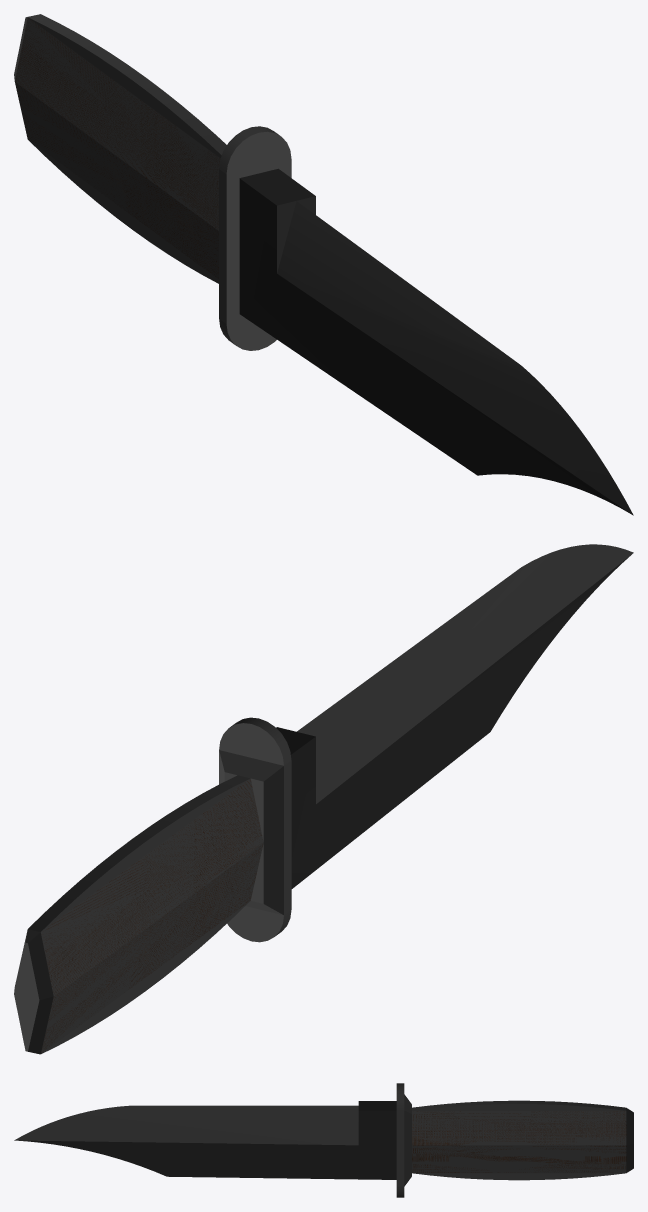
Rendered from model_scale.obj.
3 renders of one model, top to bottom at view 1: azimuth 30°, elevation 25°; view 2: azimuth 150°, elevation 25°; view 3: azimuth 270°, elevation 25°, orthographic. The views are drawn at different scales.
Parts seen in each view (by area): view 1: mesh1_mesh1-geometry, mesh2_mesh2-geometry; view 2: mesh2_mesh2-geometry, mesh1_mesh1-geometry; view 3: mesh1_mesh1-geometry, mesh2_mesh2-geometry.
Part boxes in pixels (box(x1,y1,x2,y2)): mesh1_mesh1-geometry: box(239, 168, 633, 515); mesh2_mesh2-geometry: box(14, 14, 291, 350); mesh2_mesh2-geometry: box(14, 717, 291, 1054); mesh1_mesh1-geometry: box(276, 544, 633, 888); mesh1_mesh1-geometry: box(14, 1101, 396, 1179); mesh2_mesh2-geometry: box(396, 1083, 633, 1197).
Size of the model in its own units: 0.0148 by 0.0475 by 0.2403.
3 materials, 1 textured.
